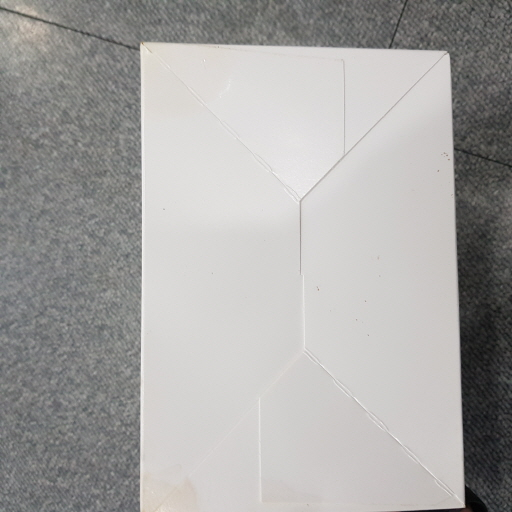Paper_0: (125, 34, 473, 512)
